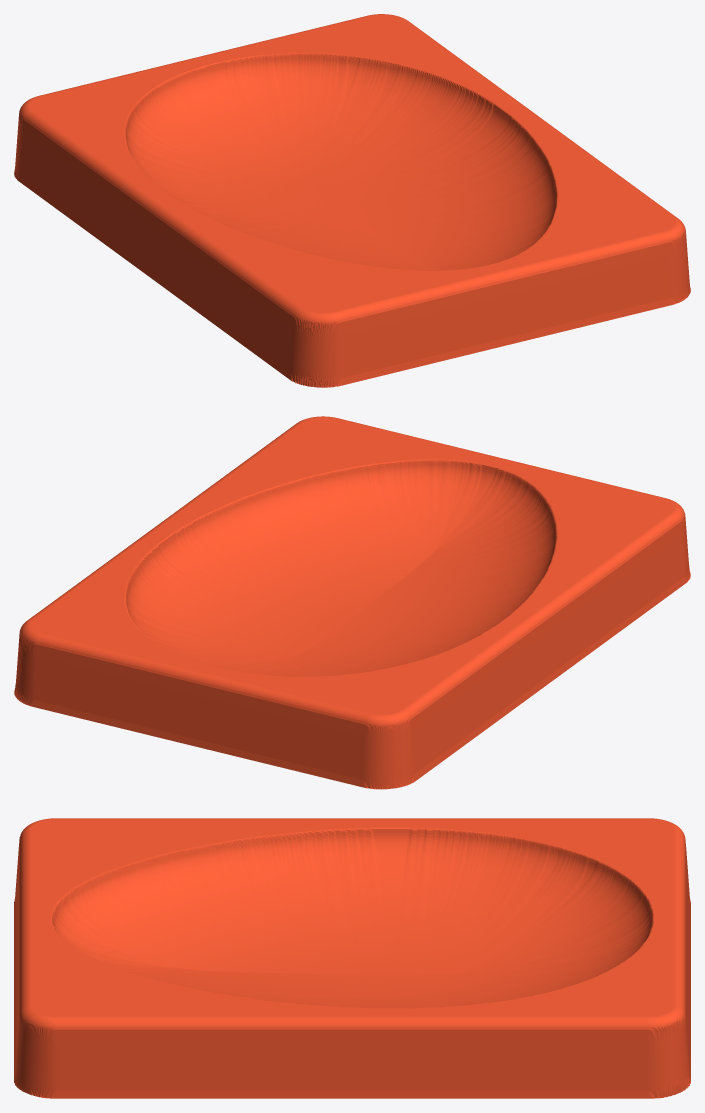
File: mold.glb
The picture shows the model from 3 angles, top to bottom: view 1: azimuth 30°, elevation 25°; view 2: azimuth 150°, elevation 25°; view 3: azimuth 270°, elevation 25°; orthographic projection. The views are drawn at different scales.
Visible parts, largest first — view 1: geometry_0; view 2: geometry_0; view 3: geometry_0.
Boxes of the visible parts, x1,y1,x2,y2 form: geometry_0: (14,14,690,387); geometry_0: (14,416,690,789); geometry_0: (14,818,690,1098).
Size of the model in its own units: 0.1062 by 0.0175 by 0.1435.
